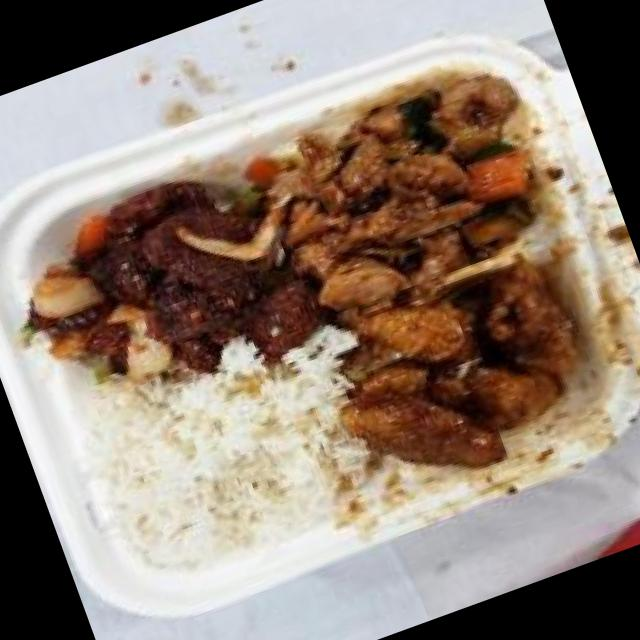Beijing Beef: (0, 144, 333, 440)
Kung Pao Chicken: (238, 49, 572, 340)
The Original Orange Chicken: (314, 241, 622, 506)
White Steamed Rice: (68, 320, 388, 598)
